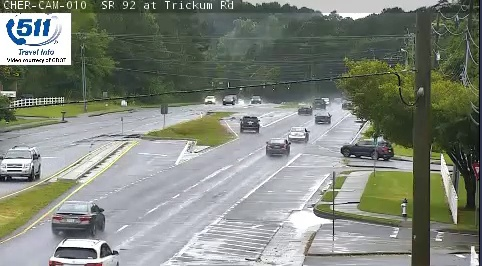car: (49, 239, 119, 266), (52, 201, 104, 231), (266, 139, 289, 155), (289, 126, 308, 142), (240, 117, 259, 132), (314, 112, 330, 122)
